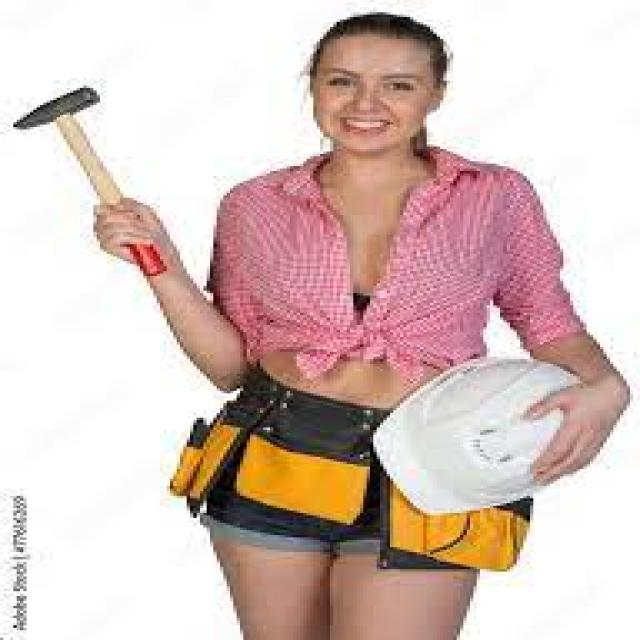hammer: (8, 77, 175, 280)
